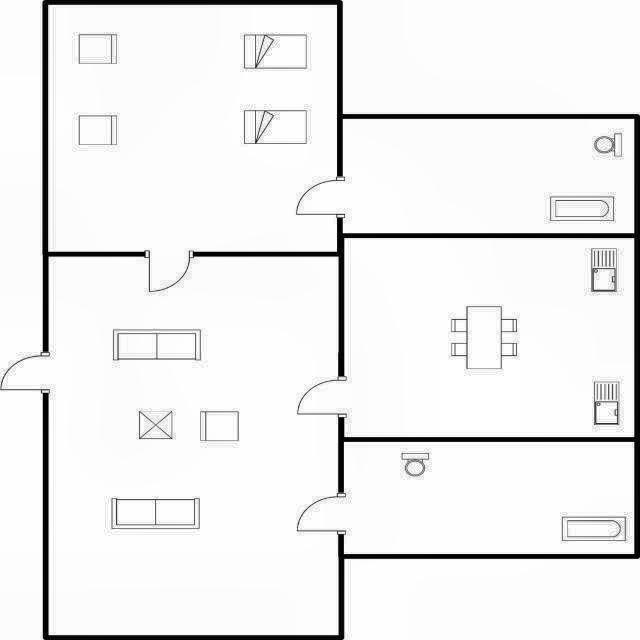room: (48, 256, 339, 636), (48, 5, 337, 252), (344, 238, 635, 438), (343, 119, 634, 233), (344, 442, 634, 554)
